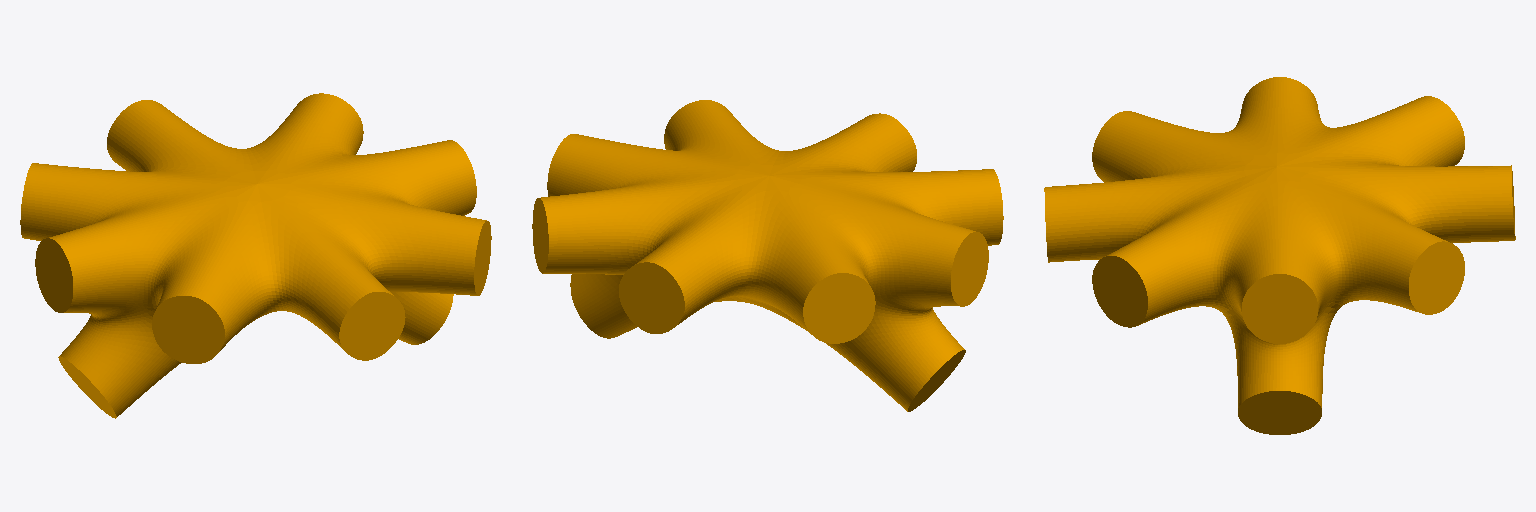
The robot description file, URDF, robot "object":
<robot name="object">
  <link name="object">
    <visual>
      <origin xyz="0 0 0"/>
      <geometry>
        <mesh filename="visual.obj" scale="1 1 1"/>
      </geometry>
    </visual>
    <collision>
      <origin xyz="0 0 0"/>
      <geometry>
        <mesh filename="visual.obj" scale="1 1 1"/>
      </geometry>
    </collision>
    <inertial>
      <mass value="0.05"/>
      <inertia ixx="4.798583884848603e-05" iyy="7.185074814601833e-05" izz="0.00010227213818806783" ixy="1.6530908541429541e-09" ixz="-7.229013373967607e-08" iyz="-1.765741124789971e-06"/>
    </inertial>
  </link>
</robot>

--- Facts derived from the render (not from the file) ---
Views: 3 orthographic renders of the robot side by side, from view 1: azimuth 30°, elevation 25°; view 2: azimuth 150°, elevation 25°; view 3: azimuth 270°, elevation 25°.
Model object with 1 links and 0 joints (none), rooted at object, posed all joints at 0.
Visible links, largest first — view 1: object; view 2: object; view 3: object.
Link boxes in pixels (x1,y1,x2,y2): object: [20, 93, 491, 418]; object: [532, 100, 1003, 411]; object: [1044, 77, 1515, 434].
Size in the robot's own frame: 0.1514 by 0.1521 by 0.0697 metres.
1 mesh visuals loaded from 1 distinct referenced files (1 OBJ).
